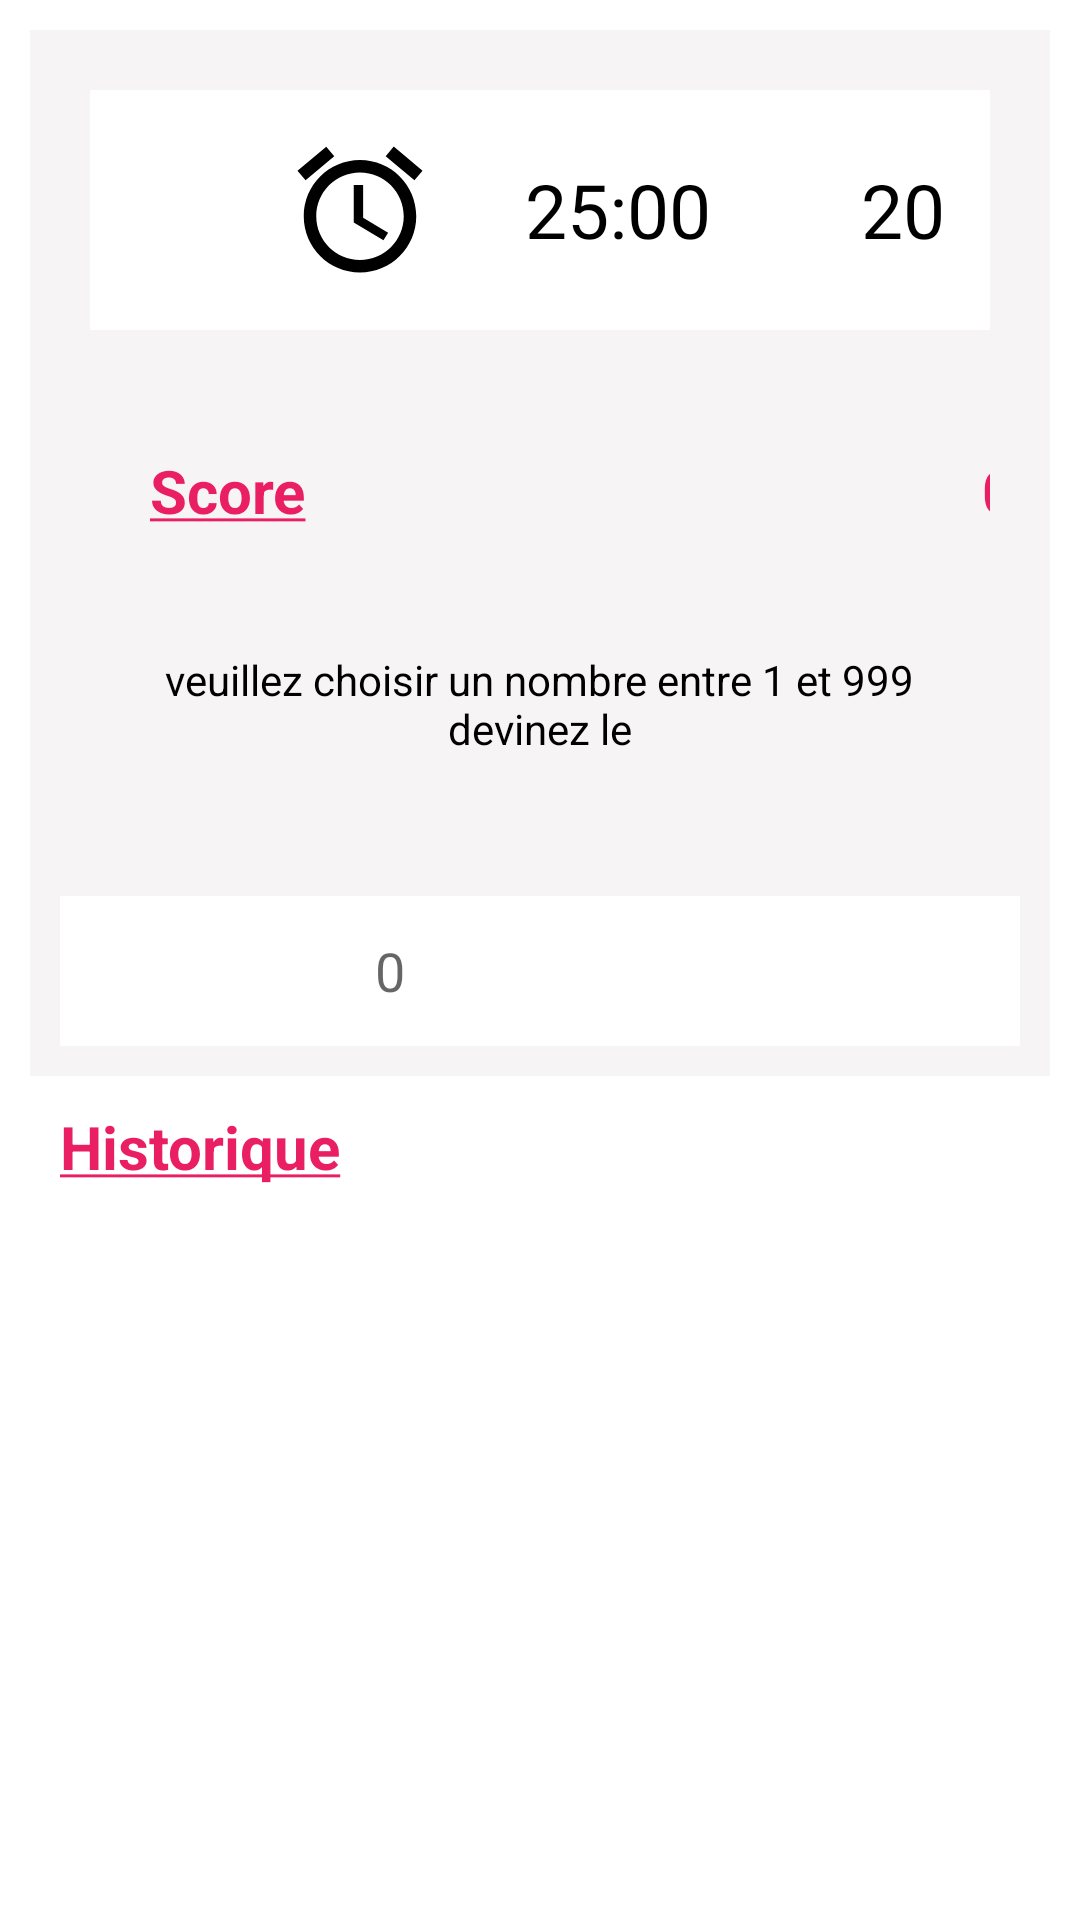

Where icons sit on this 1080w x 1920h app screen, as (x1, y1, x2, y2):
alarm: (297, 146, 423, 273)
